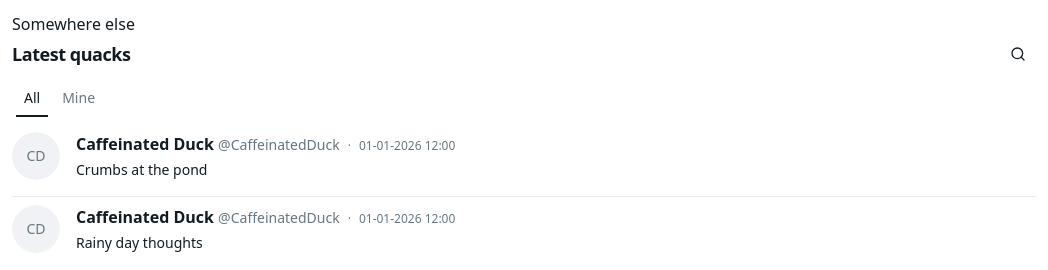
Test: QuackFeed search › says so when nothing matches
Expected: the text "Crumbs at the pond" is shown, 76,160 -> 208,179
Click the button named "Toggle search" at {"x": 1018, "y": 54}, box 1000,36 -> 1036,72
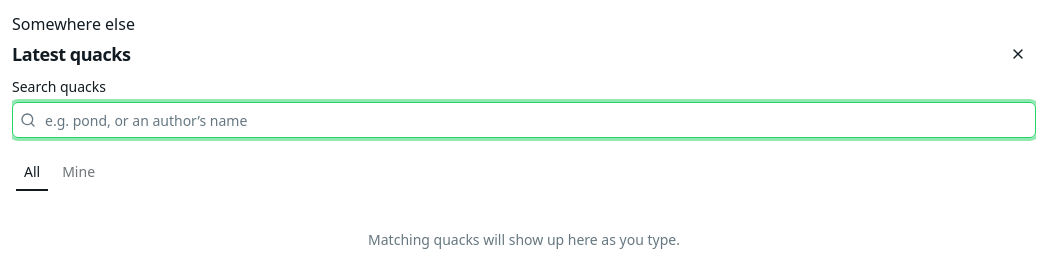
Type "zebra" into the field labelled "Search quacks" at {"x": 524, "y": 120}, box 12,102 -> 1036,138
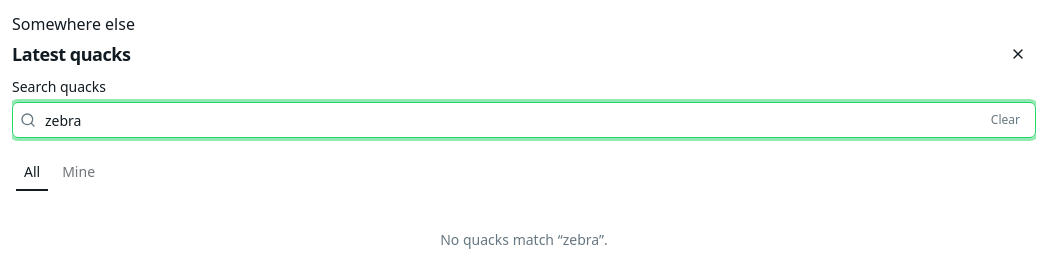
Now the message reads "No quacks match “zebra”.", box 440,230 -> 608,249
